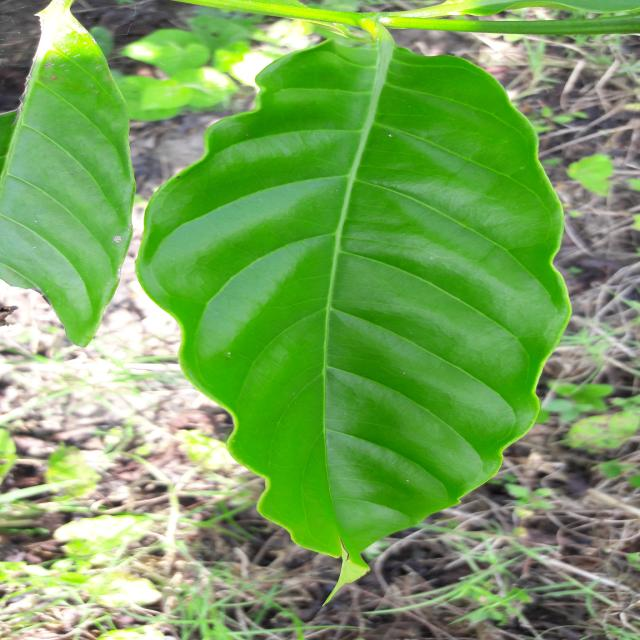Sanas: (133, 35, 573, 585)
